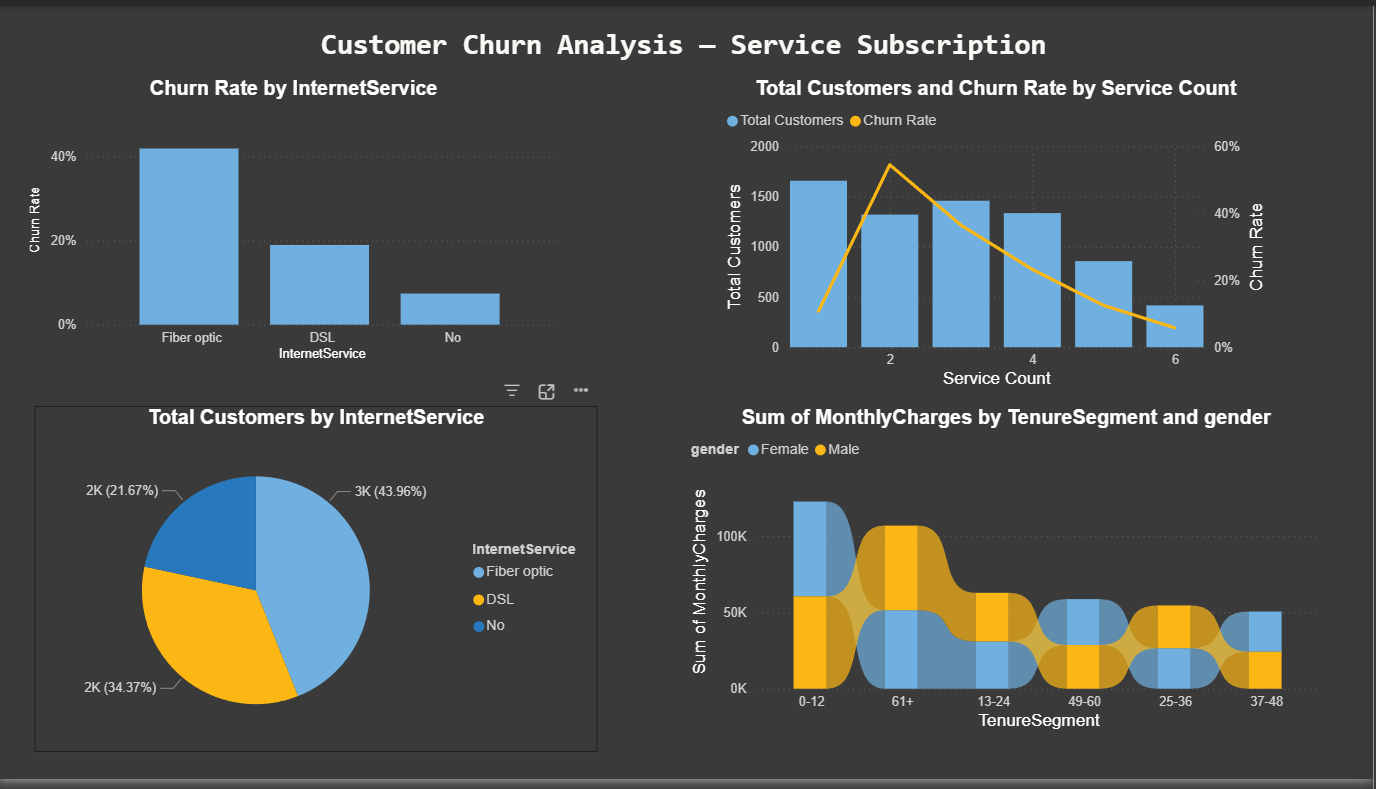

Layout of this report page (visuals, bound fields, positions):
{"tool":"powerbi","page":{"name":"Service Subscription","canvas":[1280,720],"ordinal":1},"visuals":[{"type":"clusteredColumnChart","fields":{"Category":["churn_data.InternetService"],"Y":["Measures (2).Churn Rate"]},"box":[26.1,65.9,500.9,269],"z":0},{"type":"lineClusteredColumnComboChart","fields":{"Category":["churn_data.Service Count"],"Y":["Measures (2).Total Customers"],"Y2":["Measures (2).Churn Rate"]},"box":[673.8,65.9,511.8,293.7],"z":1000},{"type":"pieChart","fields":{"Category":["churn_data.InternetService"],"Y":["Measures (2).Total Customers"]},"box":[34.3,371.9,524.2,322.5],"z":2000},{"type":"textbox","box":[296.3,15.1,687.5,50.8],"z":3000},{"type":"ribbonChart","fields":{"Y":["Sum(churn_data.MonthlyCharges)"],"Category":["churn_data.TenureSegment"],"Series":["churn_data.gender"]},"box":[640.5,371.8,596.3,305.5],"z":4000}]}

Visuals, with their boxes in screenshot pixels (x1, y1, x2, y2), scaled from the page's 1280x720 canvas onto the 1376x789 screenshot:
clusteredColumnChart - churn_data.InternetService x Measures (2).Churn Rate: region(28, 72, 567, 367)
lineClusteredColumnComboChart - churn_data.Service Count x Measures (2).Total Customers: region(724, 72, 1275, 394)
pieChart - churn_data.InternetService x Measures (2).Total Customers: region(37, 408, 600, 761)
textbox: region(319, 17, 1058, 72)
ribbonChart - Sum(churn_data.MonthlyCharges) x churn_data.TenureSegment: region(689, 407, 1330, 742)
